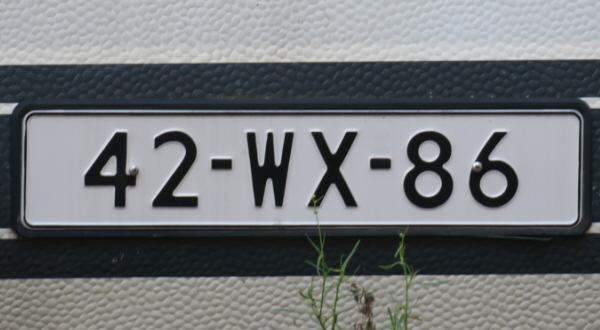license_plate: (20, 110, 583, 228)
